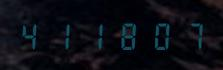eight: (111, 20, 141, 50)
four: (17, 20, 47, 50)
one: (48, 20, 78, 50), (80, 20, 110, 50)
seven: (173, 20, 203, 50)
zero: (142, 20, 172, 50)
